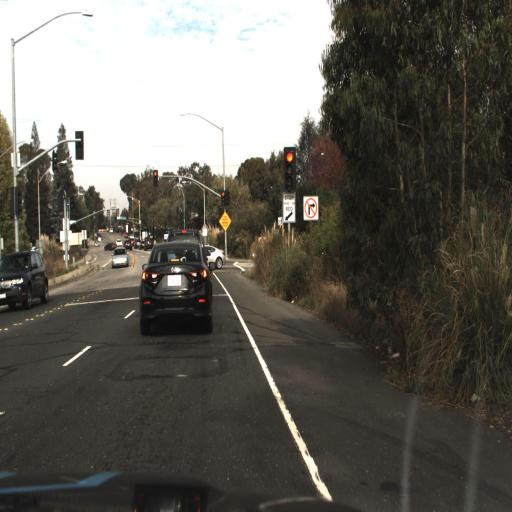car: (135, 239, 214, 335), (0, 245, 48, 310), (110, 247, 129, 271)
trafficLight-Red: (282, 141, 295, 192), (151, 166, 158, 187), (220, 189, 227, 210)
